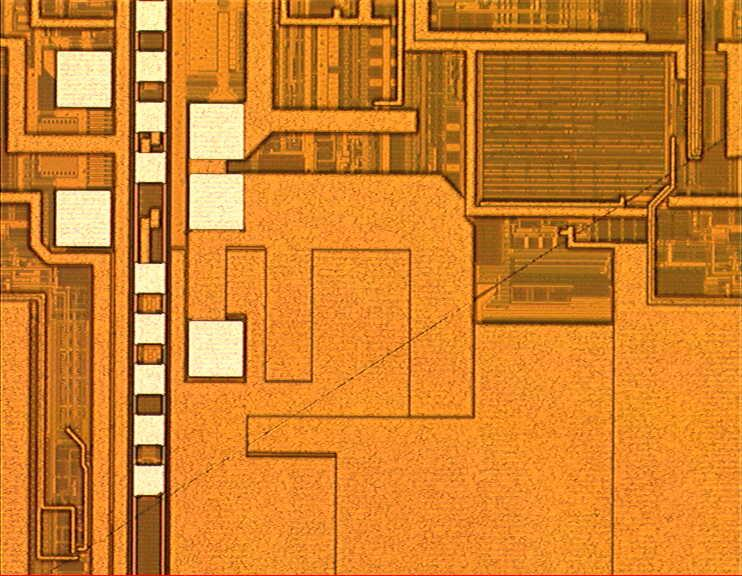SCRATCH: (43, 121, 742, 576)
